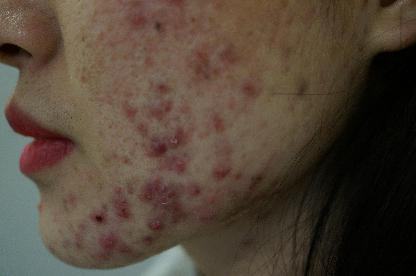Blackheads: (85, 205, 111, 228)
Papules: (287, 74, 315, 102), (236, 74, 264, 100), (124, 7, 152, 31), (206, 161, 236, 181), (146, 134, 171, 157), (216, 39, 239, 63), (148, 73, 172, 95), (121, 98, 141, 120), (101, 228, 119, 250), (146, 217, 166, 234), (153, 100, 168, 118)
pustules: (167, 131, 184, 150)
